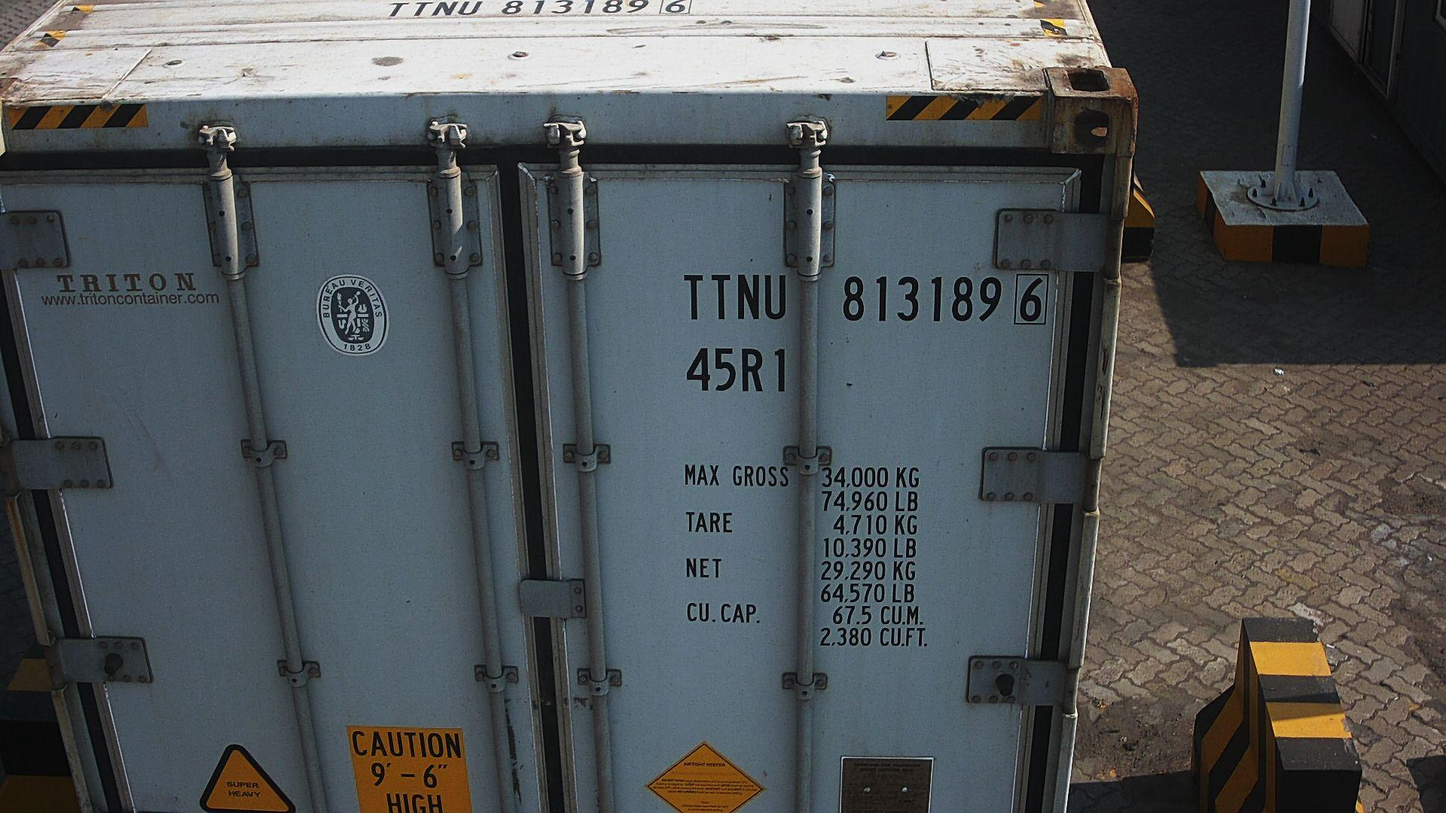container-numbers: (681, 270, 1065, 331), (684, 343, 794, 397)
